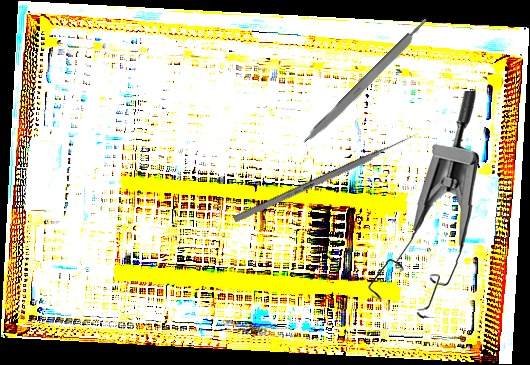Pusher: (232, 130, 421, 224)
Scalpel Handle: (300, 15, 434, 149)
Speculum: (363, 90, 484, 320)
